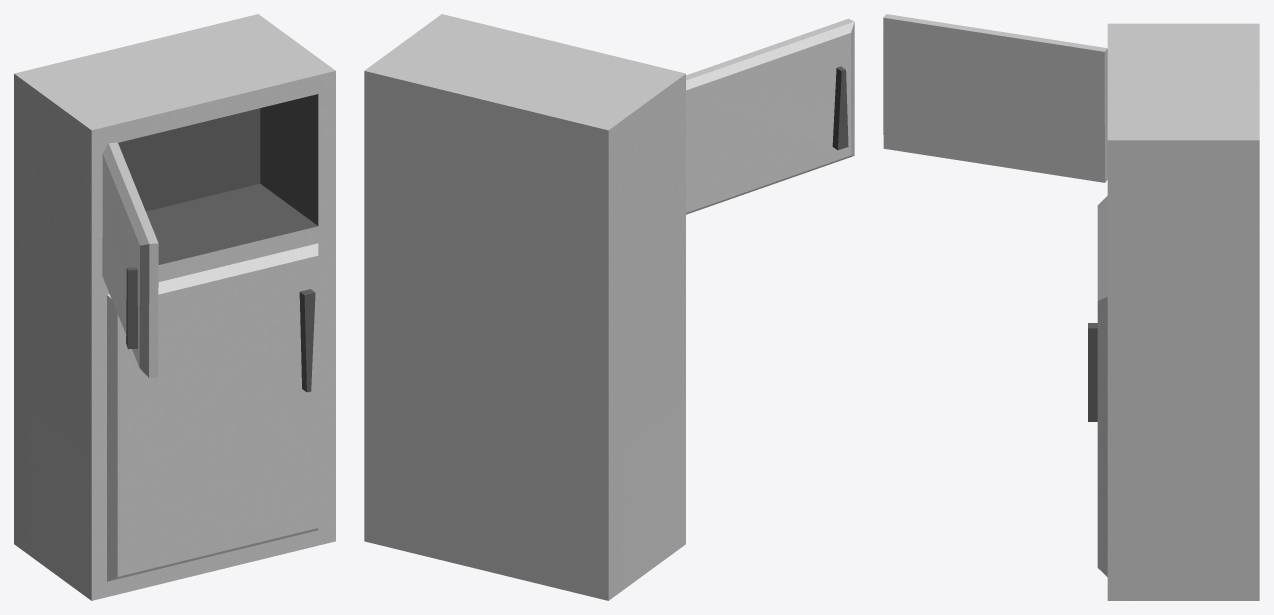
The model's file is fridge.fbx.
3 renders of one model, left to right at view 1: azimuth 30°, elevation 25°; view 2: azimuth 150°, elevation 25°; view 3: azimuth 270°, elevation 25°, orthographic. The views are drawn at different scales.
Parts seen in each view (by area): view 1: polySurface1; view 2: polySurface1; view 3: polySurface1.
Part boxes in pixels (<box>): polySurface1: <box>14,14,335,600</box>; polySurface1: <box>364,14,854,600</box>; polySurface1: <box>883,14,1259,600</box>.
Bounding box in the file's own units: 1.22 × 1.79 × 1.33.
